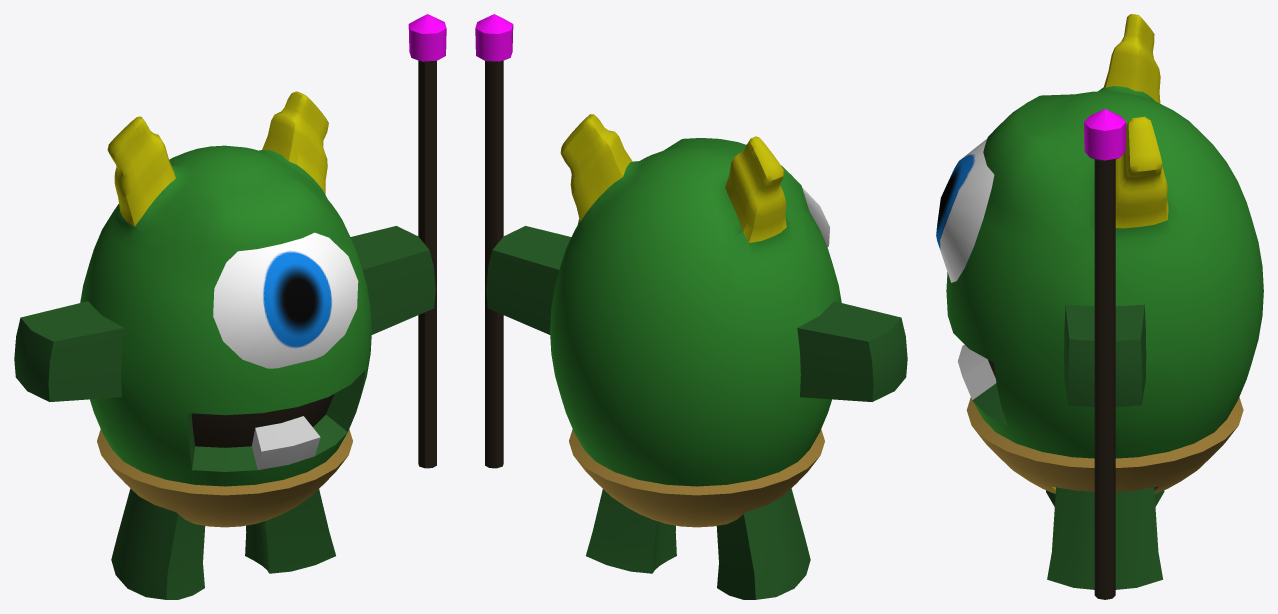
The model's file is alien_leader_fbx.fbx.
3 renders of one model, left to right at view 1: azimuth 30°, elevation 25°; view 2: azimuth 150°, elevation 25°; view 3: azimuth 270°, elevation 25°, orthographic. The views are drawn at different scales.
Parts seen in each view (by area): view 1: Ball, Eye, Cylinder; view 2: Ball, Cylinder; view 3: Ball, Cylinder, Eye.
Part boxes in pixels (x1,y1,x2,y2): Ball: (14, 91, 435, 599); Eye: (213, 232, 358, 368); Cylinder: (408, 14, 446, 468); Ball: (486, 114, 907, 599); Cylinder: (475, 14, 513, 468); Ball: (946, 14, 1263, 589); Cylinder: (1084, 109, 1126, 599); Eye: (936, 139, 994, 282).
Bounding box in the file's own units: 218 × 254 × 137.
